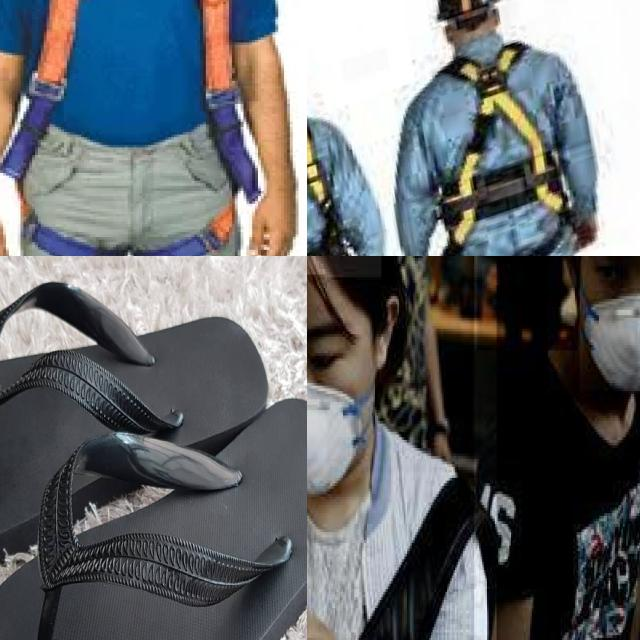Harness: (13, 0, 248, 256), (441, 45, 566, 256)
No_Glasses: (307, 311, 361, 389)
Sandals: (0, 262, 307, 640)
face_mask: (307, 304, 376, 496), (579, 256, 640, 391)
person: (307, 256, 475, 640), (496, 256, 640, 640), (326, 256, 461, 475), (477, 256, 579, 353)
